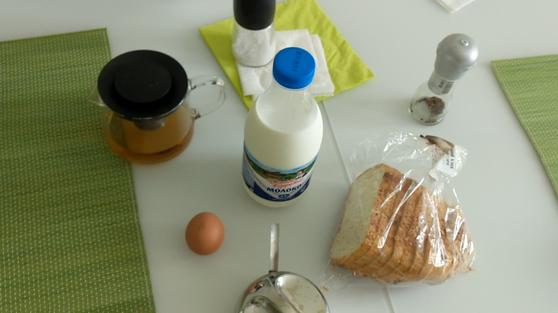egg: (183, 210, 227, 259)
milk: (242, 43, 323, 207)
white_bread: (330, 158, 469, 286)
